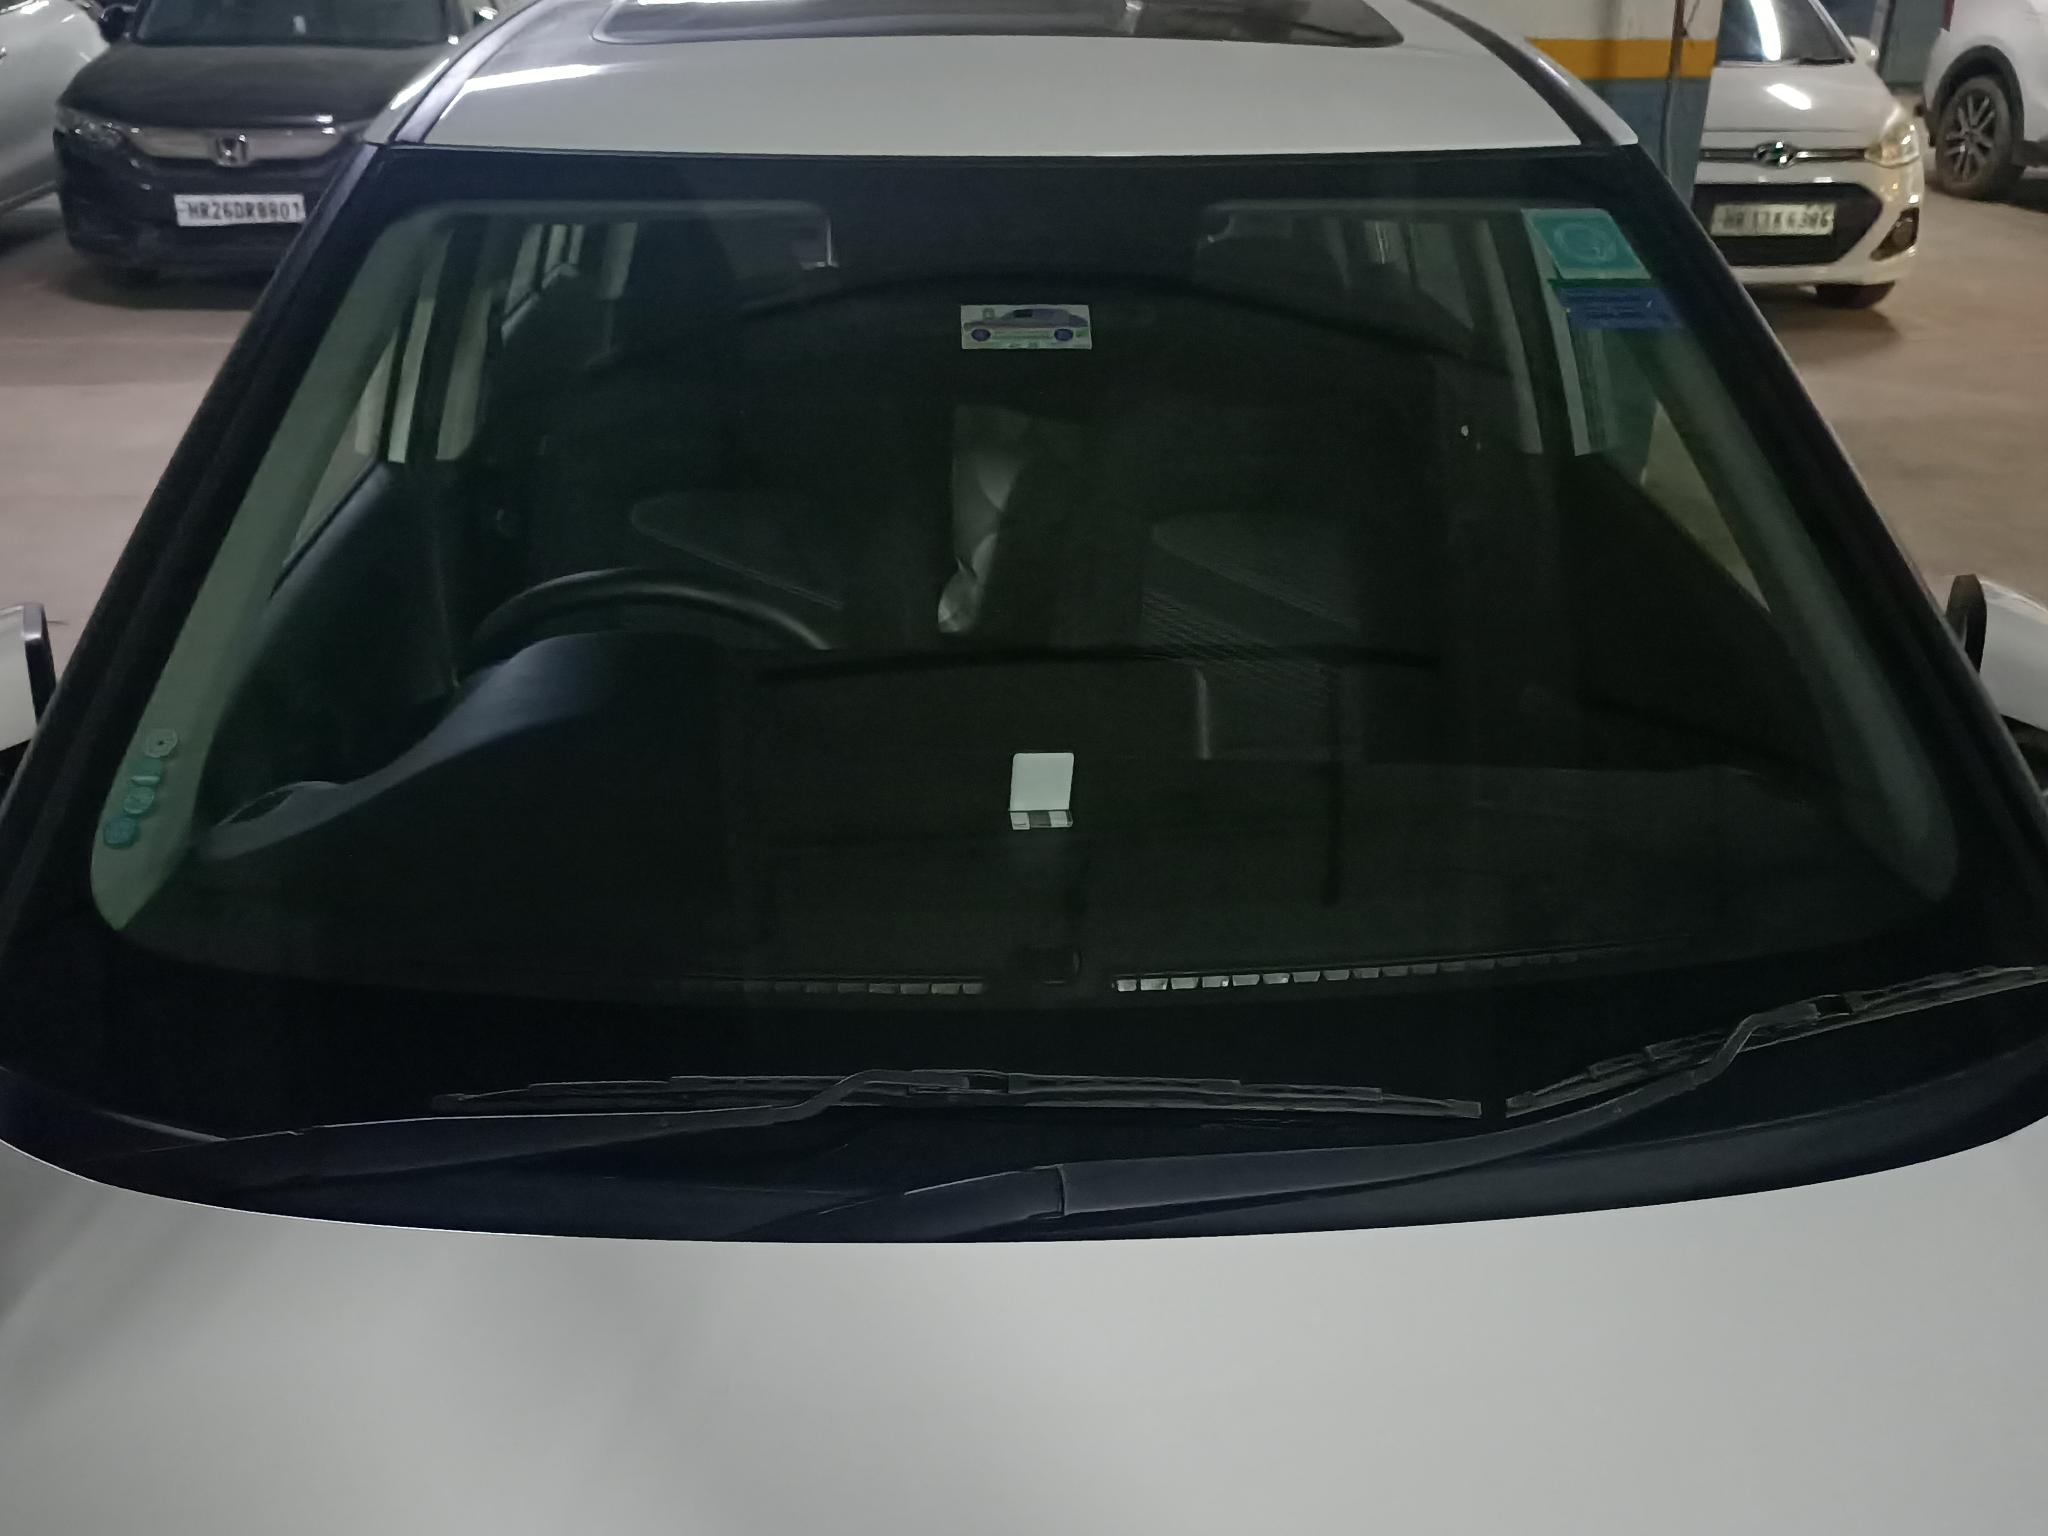FastTag: (953, 292, 1108, 358)
not a FastTag: (1529, 190, 1642, 282), (1571, 289, 1693, 339)
